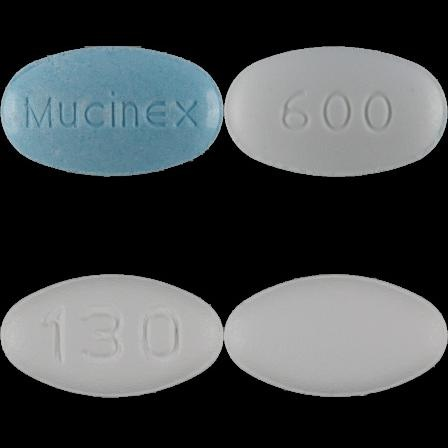55045-3143: (0, 0, 224, 224)
